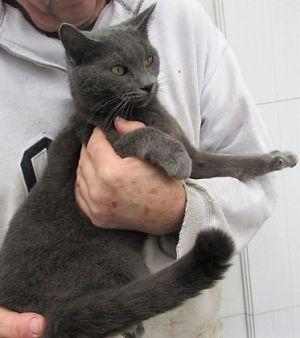rblue: (53, 7, 167, 108)
